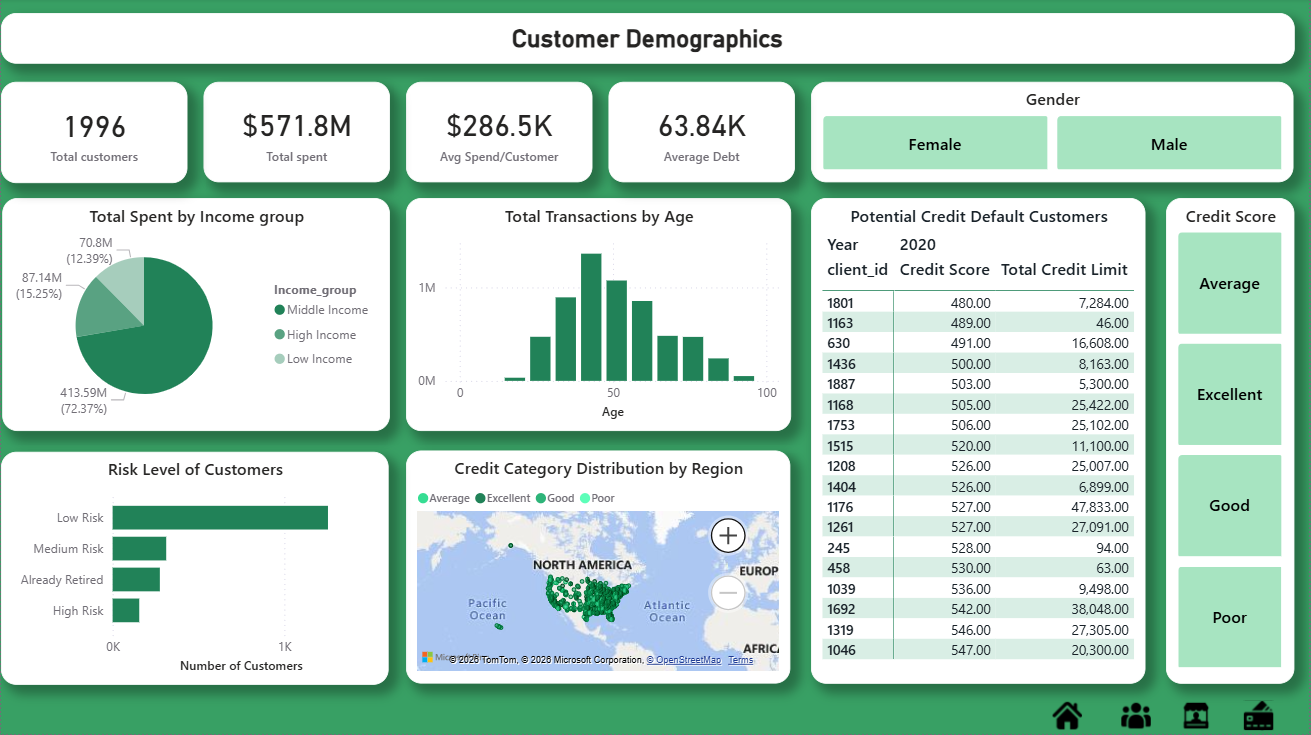

Layout of this report page (visuals, bound fields, positions):
{"tool":"powerbi","page":{"name":"Customer_demographic","canvas":[1280,720],"ordinal":2},"visuals":[{"type":"card","fields":{"Values":["Report_measure.Average_spend_per_customer"]},"box":[396,82.5,182.2,98.5],"z":0},{"type":"card","fields":{"Values":["Report_measure.Total_spent"]},"box":[198.2,82.5,182.2,98.5],"z":1000},{"type":"pieChart","title":"Total Spent by Income group","fields":{"Category":["users_data.Income_group"],"Y":["Sum(transactions.total_spend)"]},"box":[1.2,195.7,379.1,227.7],"z":2000},{"type":"columnChart","title":"Total Transactions by Age","fields":{"Y":["CountNonNull(transactions.transaction_key)"],"Category":["users_data.current_age (bins)"]},"box":[396.3,195.7,376.6,227.7],"z":3000},{"type":"card","fields":{"Values":["CountNonNull(users_data.user_id)"]},"box":[0,81.9,182,99],"z":4000},{"type":"advancedSlicerVisual","title":"Gender","fields":{"Values":["users_data.gender"]},"box":[792,82.5,472,98.5],"z":5000},{"type":"actionButton","box":[1025.2,683.1,43.1,36.9],"z":6000},{"type":"actionButton","box":[1091.7,683.1,36.9,36.9],"z":7000},{"type":"actionButton","box":[1150.8,683.1,43.1,36.9],"z":8000},{"type":"actionButton","box":[1212.3,683.1,36.9,36.9],"z":9000},{"type":"textbox","box":[0,14.8,1265.2,49.2],"z":10000},{"type":"card","fields":{"Values":["Avg(users_data.total_debt)"]},"box":[594,82.5,182.2,98.5],"z":11000},{"type":"map","title":"Credit Category Distribution by Region","fields":{"Y":["users_data.latitude"],"X":["users_data.longitude"],"Series":["users_data.Credit_score_Category"]},"box":[396.3,443.1,376,227.7],"z":12000},{"type":"barChart","title":"Risk Level of Customers","fields":{"Category":["users_data.Credit Risk Exposure"],"Y":["CountNonNull(users_data.user_id)"]},"box":[0,444.3,379,227.7],"z":13000},{"type":"pivotTable","title":"Potential Credit Default Customers","fields":{"Rows":["Risky Customers.client_id"],"Values":["Avg(Risky Customers.credit_score)","Sum(Risky Customers.credit_limit)"],"Columns":["Risky Customers.expiry_date.Variation.Date Hierarchy.Year","Risky Customers.expiry_date.Variation.Date Hierarchy.Month"]},"box":[792.6,195.7,327.4,475.1],"z":14000},{"type":"advancedSlicerVisual","title":"Credit Score","fields":{"Values":["users_data.Credit_score_Category"]},"box":[1139.7,195.7,125.5,475.1],"z":15000}]}

Visuals, with their boxes in screenshot pixels (x1, y1, x2, y2), scaled from the page's 1280x720 canvas onto the 1311x735 screenshot:
card - Report_measure.Average_spend_per_customer: [406, 84, 592, 185]
card - Report_measure.Total_spent: [203, 84, 390, 185]
"Total Spent by Income group" pieChart: [1, 200, 390, 432]
"Total Transactions by Age" columnChart: [406, 200, 792, 432]
card - CountNonNull(users_data.user_id): [0, 84, 186, 185]
"Gender" advancedSlicerVisual: [811, 84, 1295, 185]
actionButton: [1050, 697, 1094, 734]
actionButton: [1118, 697, 1156, 734]
actionButton: [1179, 697, 1223, 734]
actionButton: [1242, 697, 1279, 734]
textbox: [0, 15, 1296, 65]
card - Avg(users_data.total_debt): [608, 84, 795, 185]
"Credit Category Distribution by Region" map: [406, 452, 791, 685]
"Risk Level of Customers" barChart: [0, 454, 388, 686]
"Potential Credit Default Customers" pivotTable: [812, 200, 1147, 685]
"Credit Score" advancedSlicerVisual: [1167, 200, 1296, 685]
